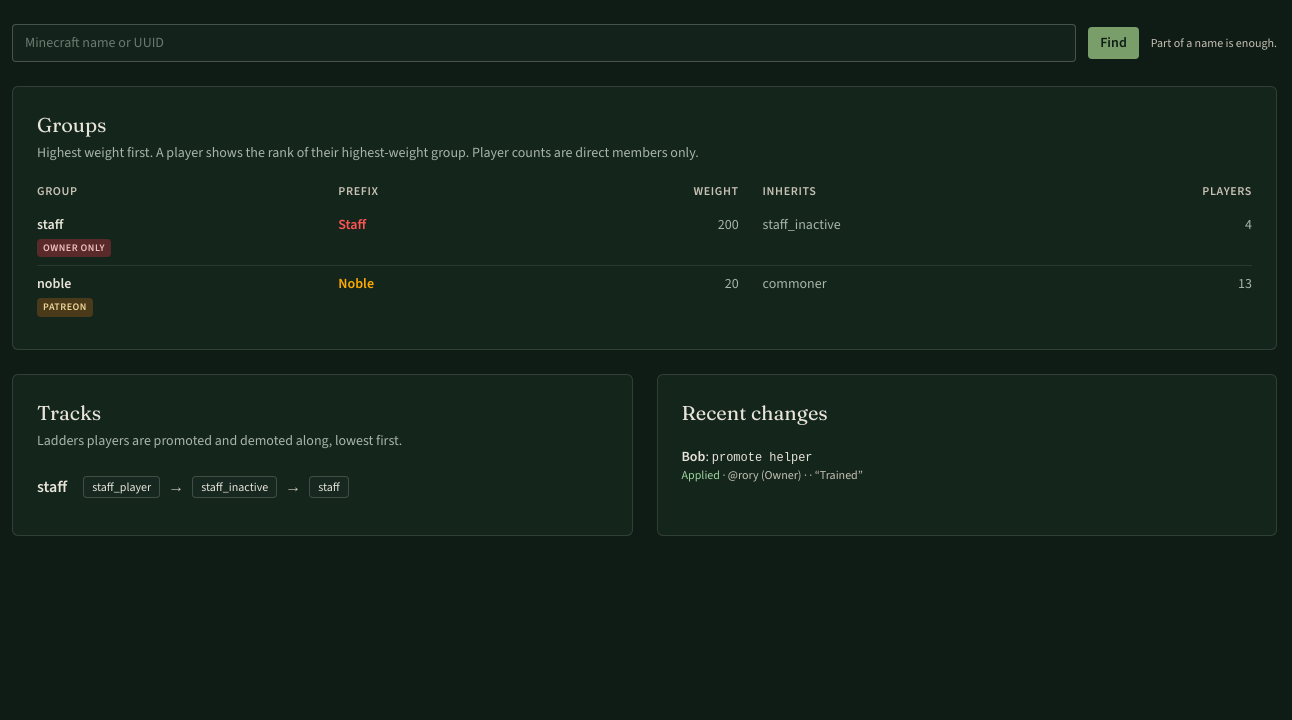
Test: lists groups, tracks and recent changes, and finds players
Expected: the text "Owner only" is shown, [37,239,111,257]
Expected: the text "Patreon" is shown, [37,298,93,317]
Type "ali" into the field labelled "Minecraft name or UUID" at [544, 43], box [12,24,1076,62]
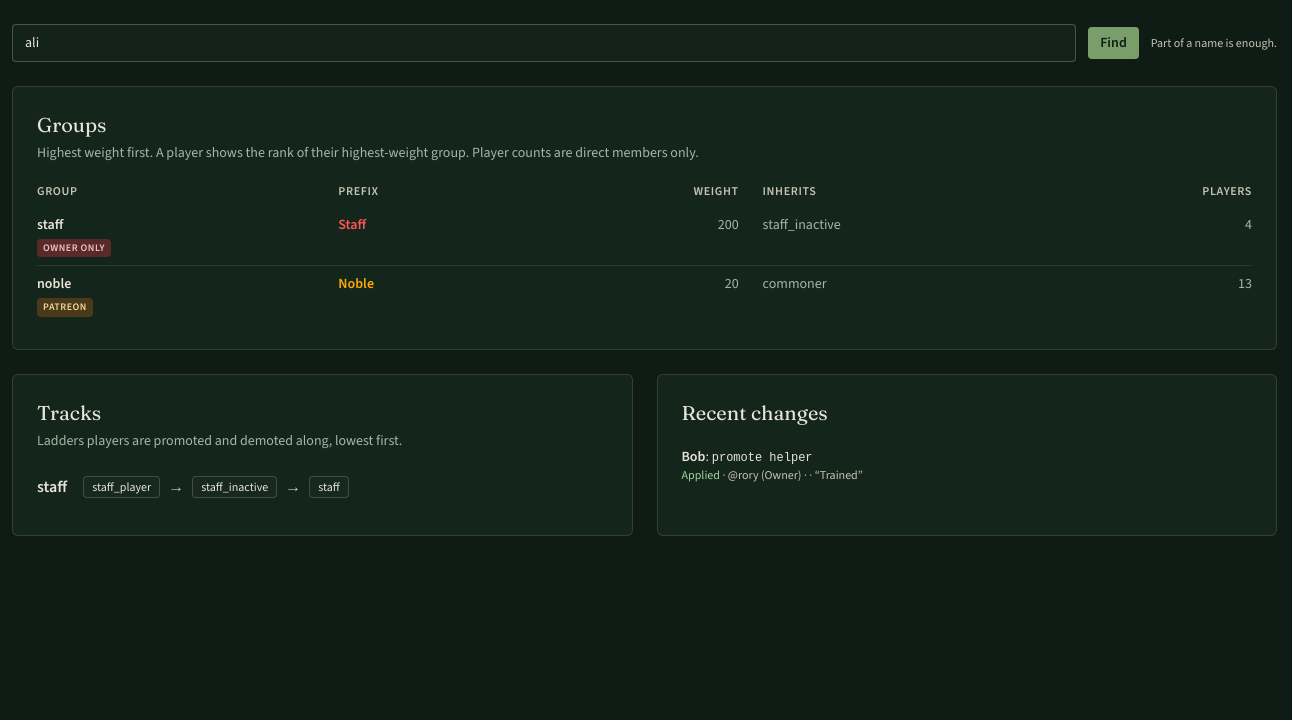
Click the button "Find" at [1113, 43], box [1088,27,1139,59]
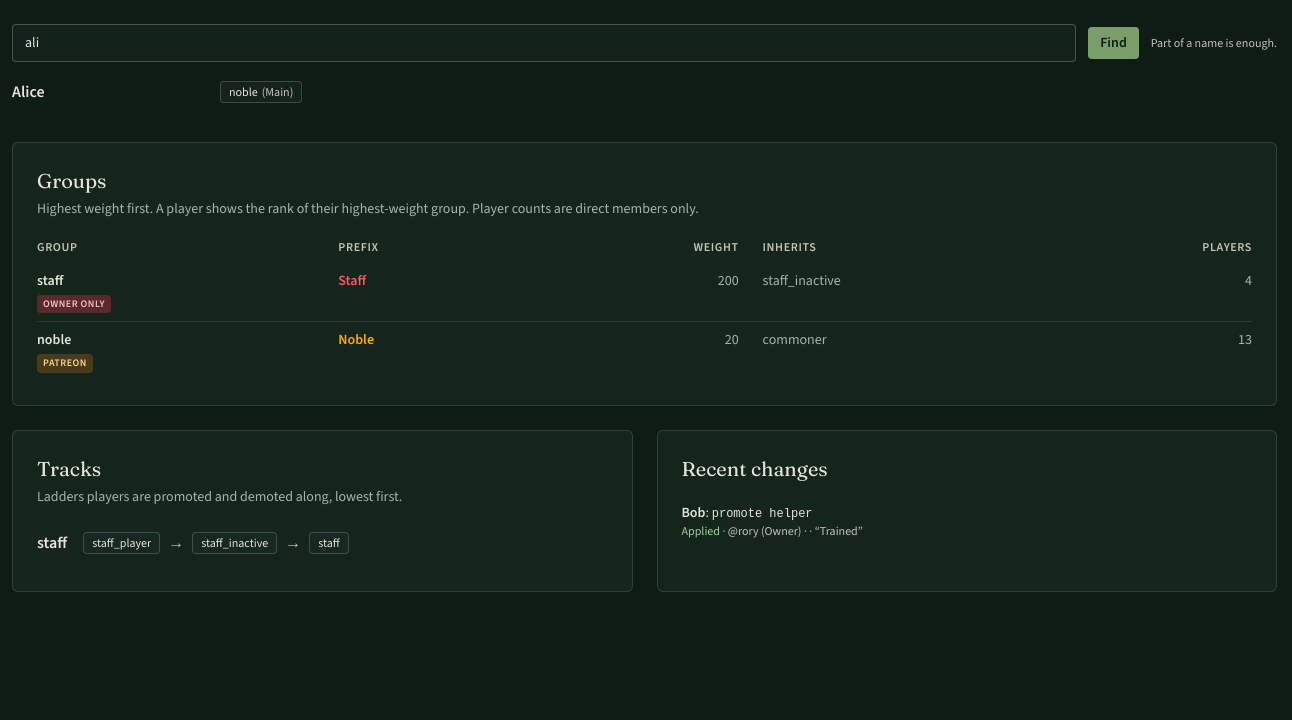
Expected: the link "Alice" is shown, [12,81,45,102]
Expected: the text "(Main)" is shown, [262,84,293,100]
